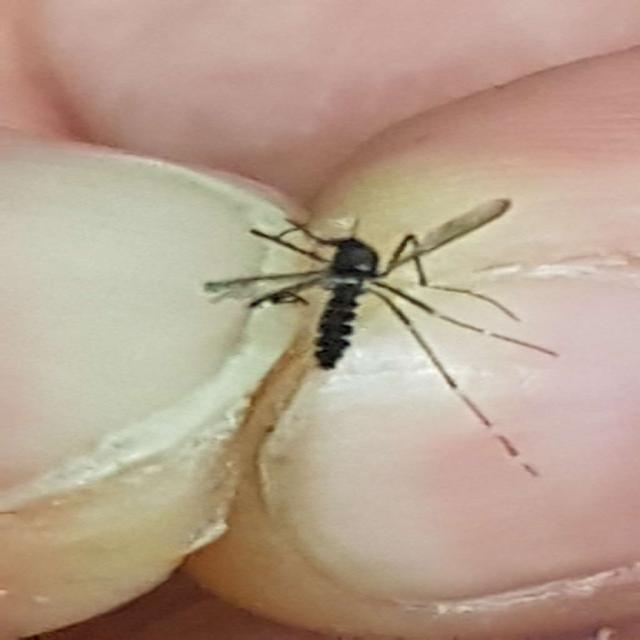albopictus: (176, 184, 565, 478)
